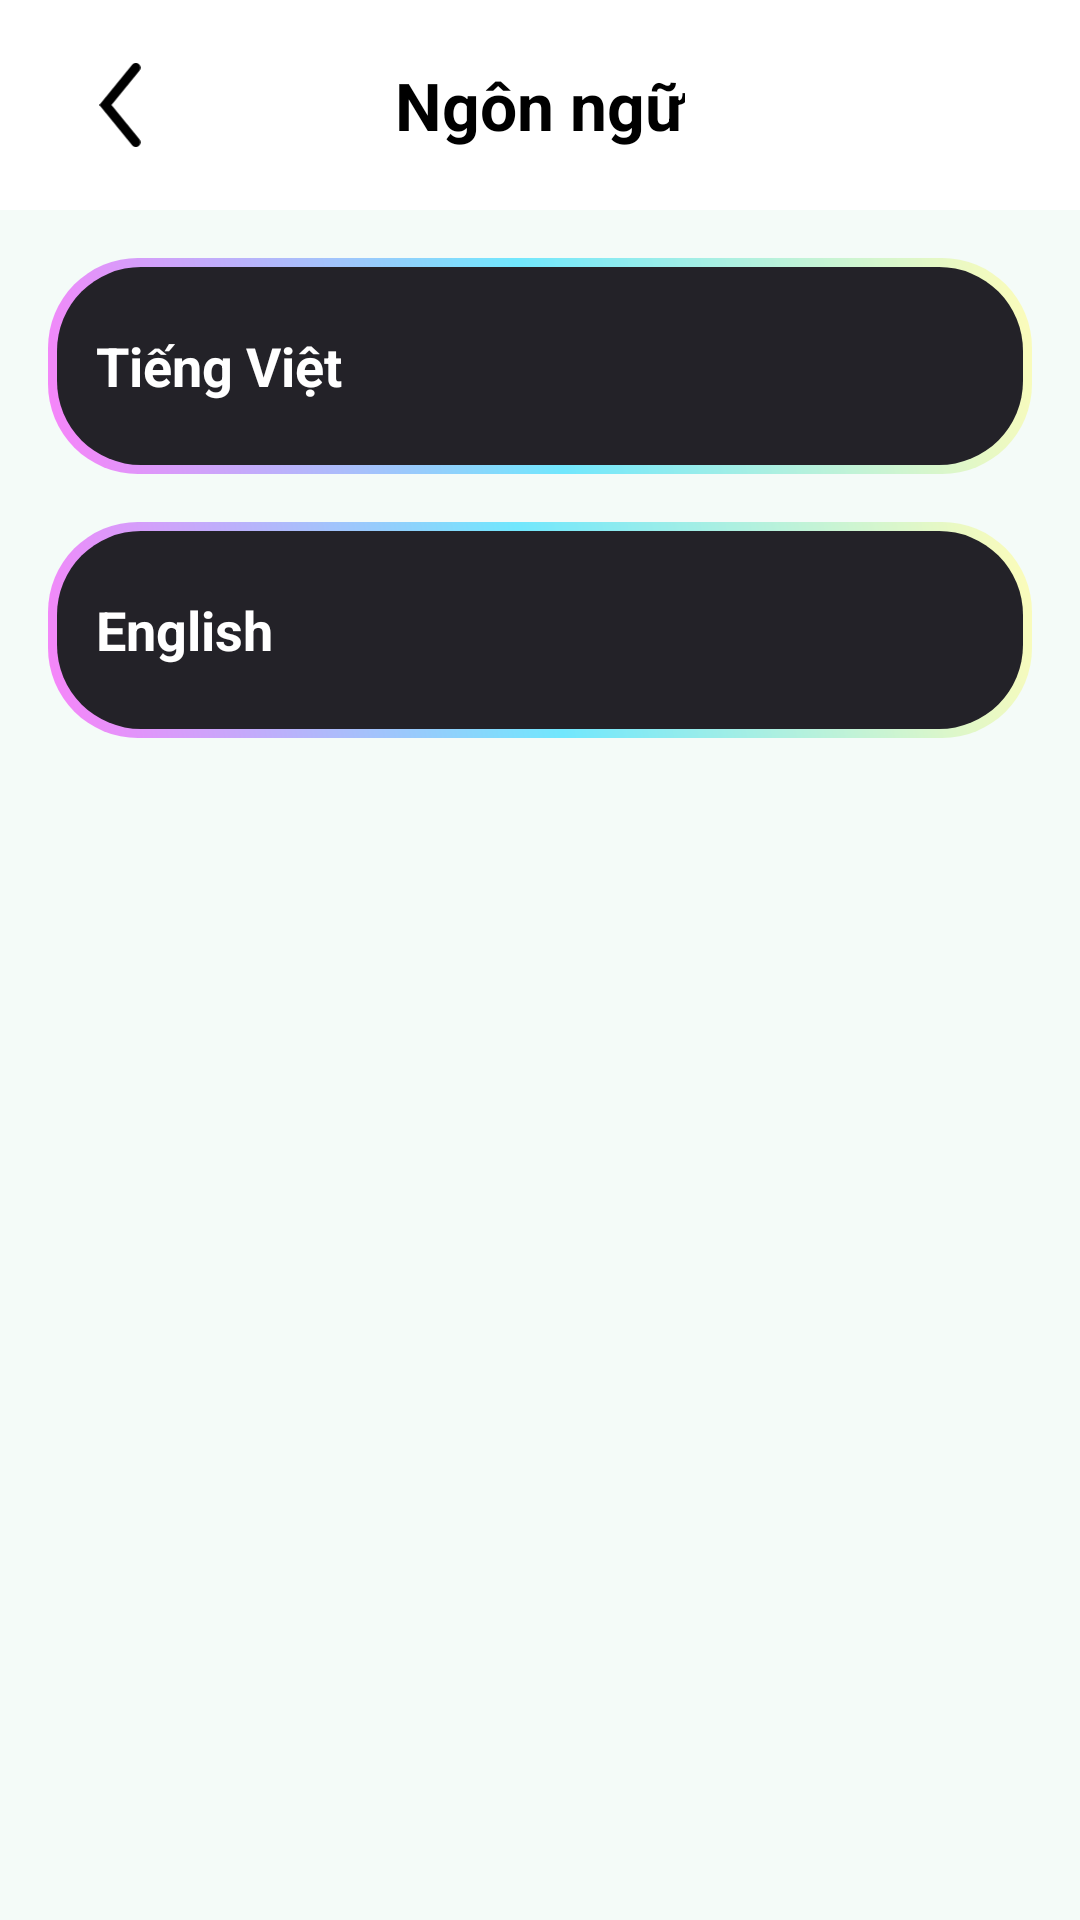

Named icons in this screenshot (1080 × 1920) and their bounding boxes, (x1, y1, x2, y2):
back: (99, 63, 141, 147)
